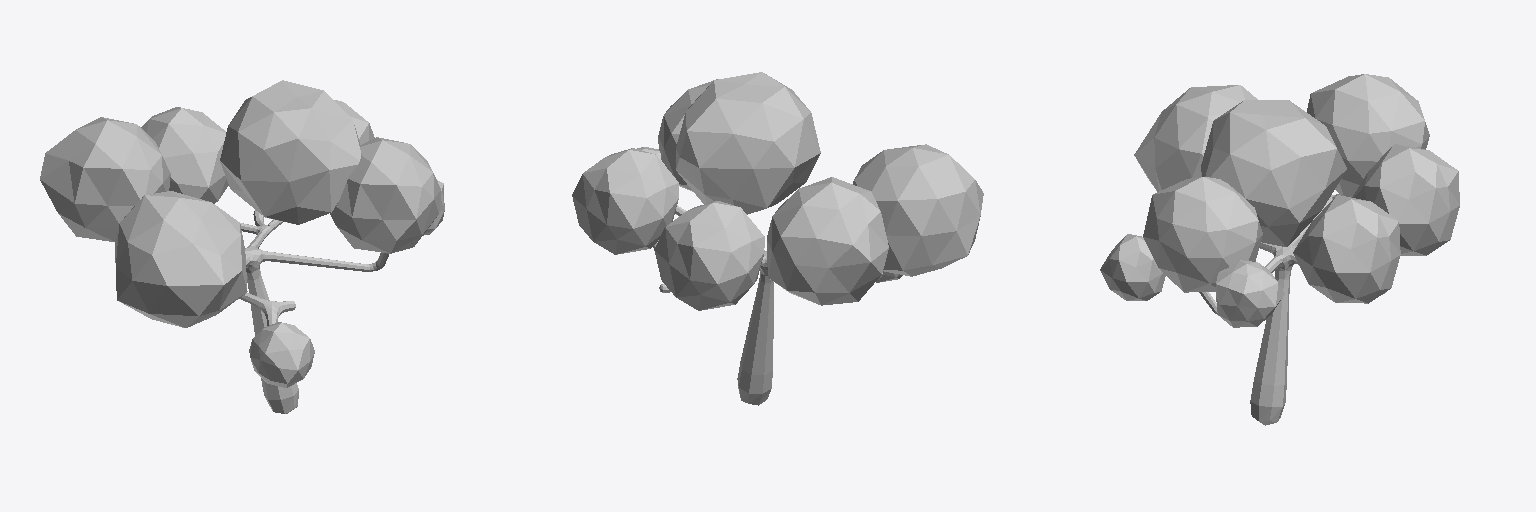
Rendered from tree_02.obj.
3 views of the same model, side by side, from view 1: azimuth 30°, elevation 25°; view 2: azimuth 150°, elevation 25°; view 3: azimuth 270°, elevation 25° (orthographic).
Parts seen in each view (by area): view 1: Icosphere.008_Icosphere.009; view 2: Icosphere.008_Icosphere.009; view 3: Icosphere.008_Icosphere.009.
Part boxes in pixels (x1,y1,x2,y2): Icosphere.008_Icosphere.009: (40,80,444,413); Icosphere.008_Icosphere.009: (572,72,983,405); Icosphere.008_Icosphere.009: (1100,74,1459,425).
Size of the model in its own units: 10.4 by 9.28 by 9.56.